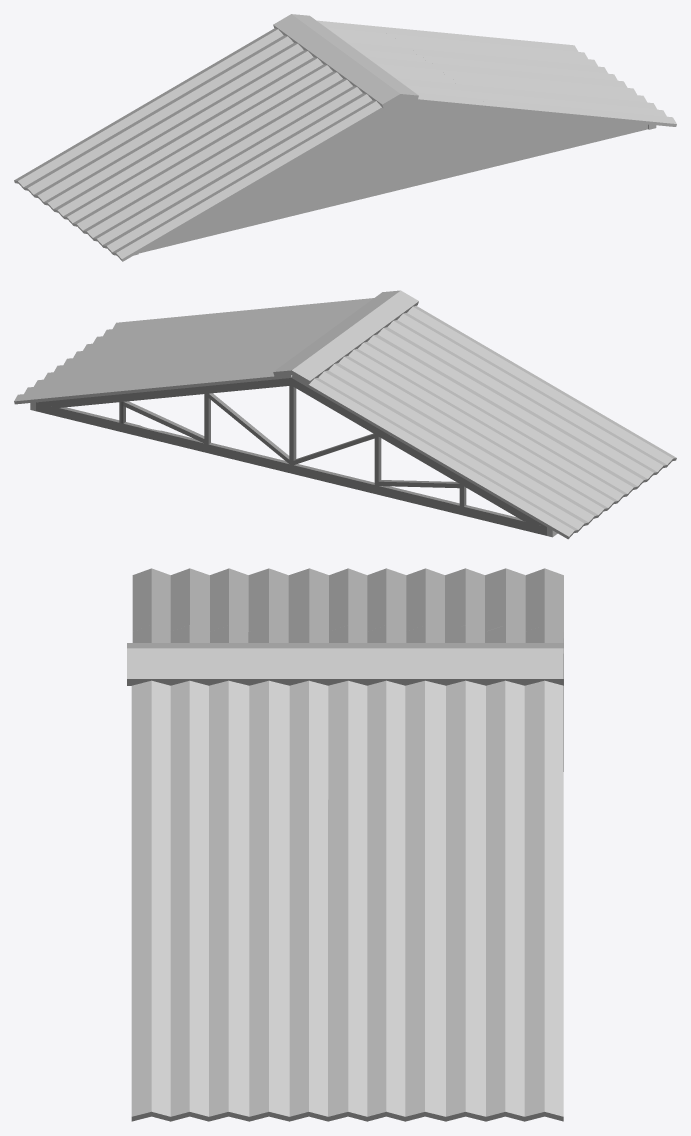
File: Wh_Roof_End_18m.fbx
3 views of the same model, one above another, from view 1: azimuth 30°, elevation 25°; view 2: azimuth 150°, elevation 25°; view 3: azimuth 270°, elevation 25° (orthographic). The views are drawn at different scales.
Visible parts, largest first — view 1: Cube.1064; view 2: Cube.1064; view 3: Cube.1064.
Part boxes in pixels (x1,y1,x2,y2): Cube.1064: (14, 14, 676, 261); Cube.1064: (14, 290, 676, 539); Cube.1064: (127, 568, 563, 1121).
Size of the model in its own units: 1963 by 348 by 667.
